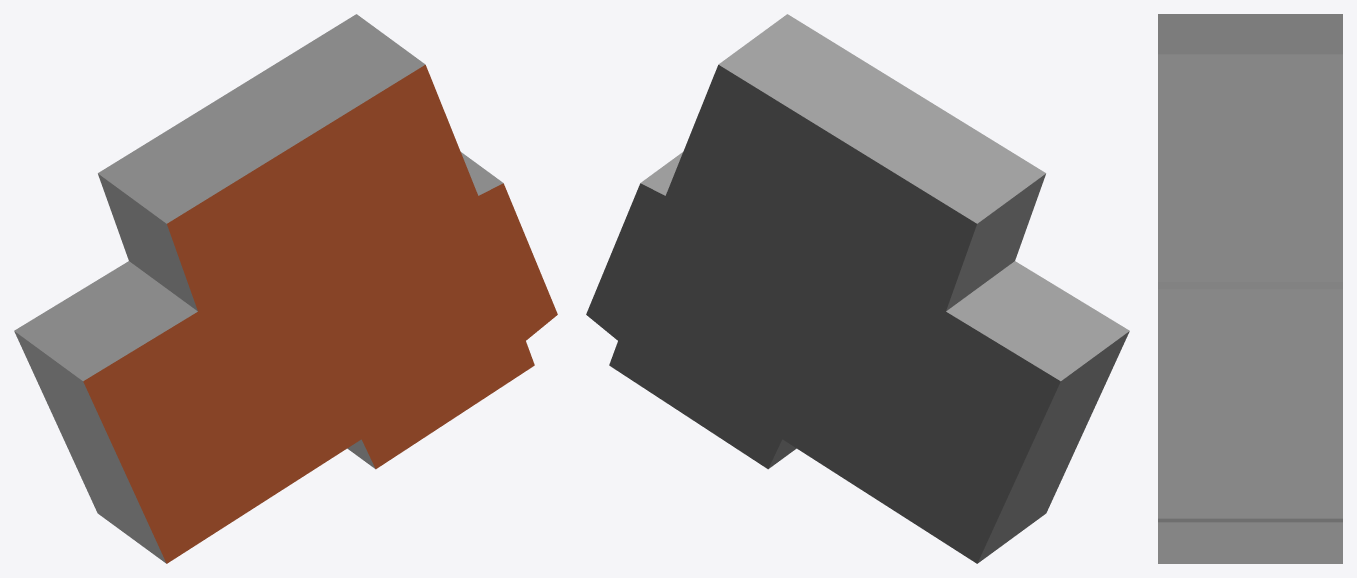
File: construction_4528_assumed_A_Casa_h6m.obj
3 renders of one model, left to right at view 1: azimuth 30°, elevation 25°; view 2: azimuth 150°, elevation 25°; view 3: azimuth 270°, elevation 25°, orthographic. The views are drawn at different scales.
Parts seen in each view (by area): view 1: construction_4528_assumed_A_Casa; view 2: construction_4528_assumed_A_Casa; view 3: construction_4528_assumed_A_Casa.
Part boxes in pixels (x1,y1,x2,y2): construction_4528_assumed_A_Casa: (14,14,557,563); construction_4528_assumed_A_Casa: (586,14,1129,563); construction_4528_assumed_A_Casa: (1158,14,1342,563).
Size of the model in its own units: 23.8 by 20.9 by 6.
